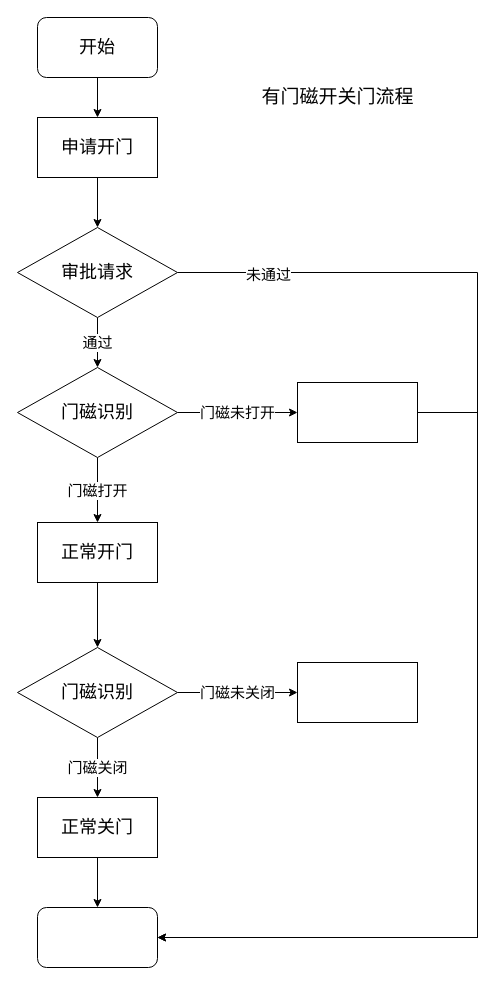
The diagram is 503 pixels wide and 985 high, and some of its shapes have lost their labels. The centre of each missing label's shape, as x and y in pixels:
本次请求超时: point 357,412
结束: point 97,937
超时门未关: point 357,692
